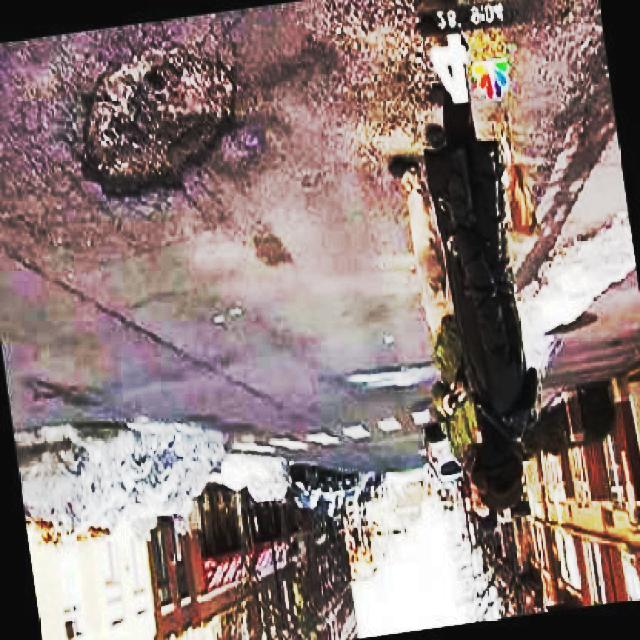pothole: (80, 49, 245, 200)
